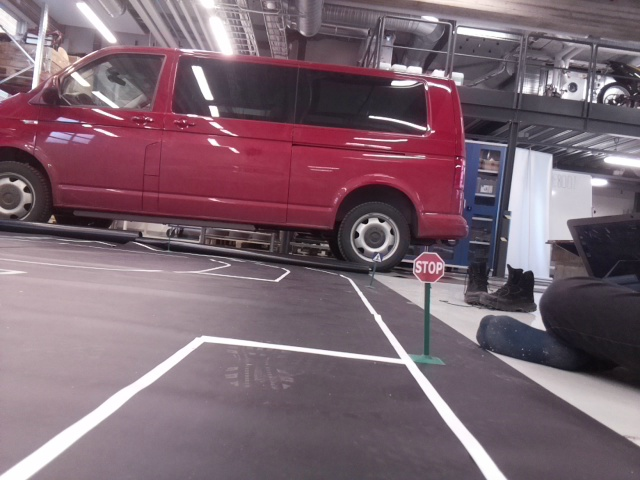Stop: (413, 251, 442, 282)
